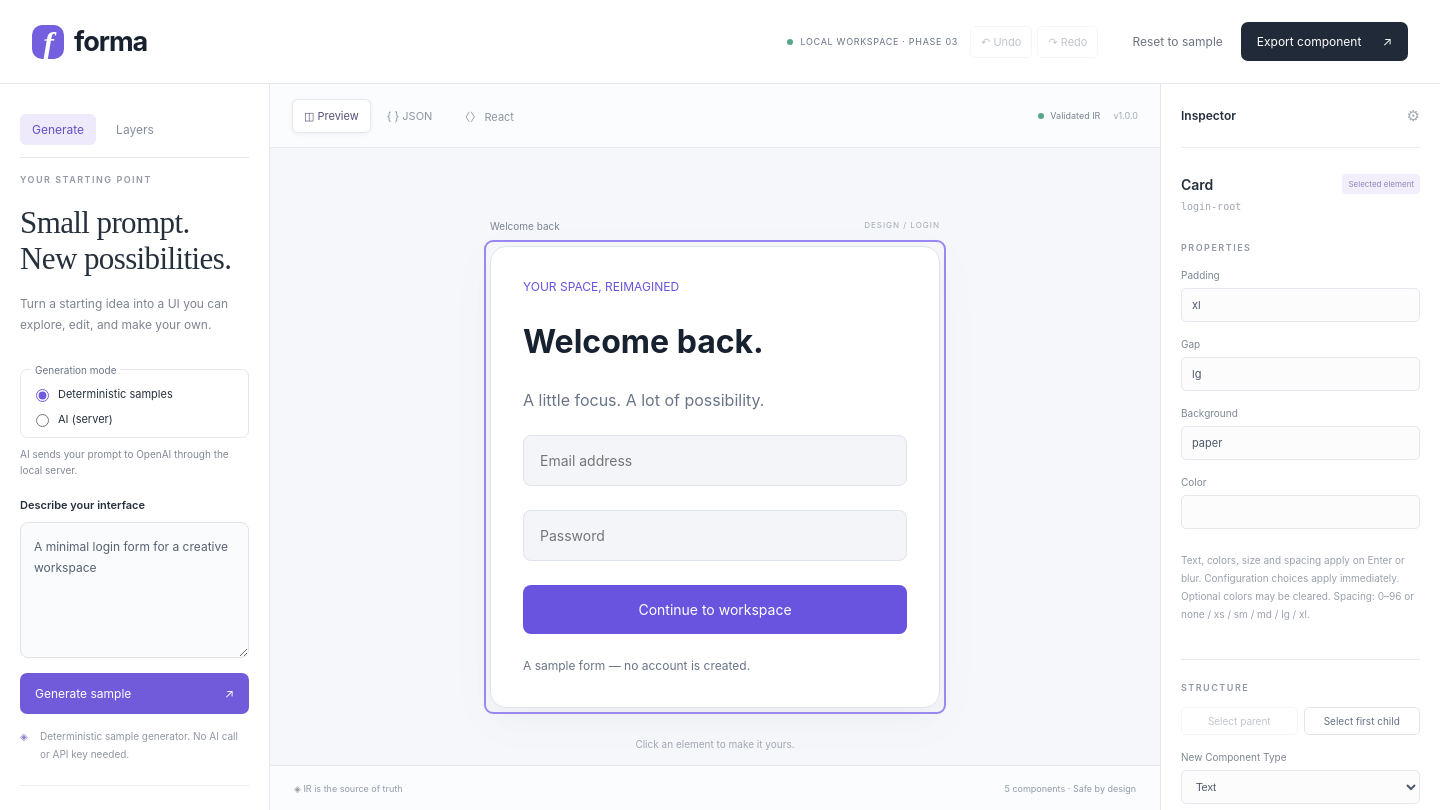
Test case: AI client integration › accepts and persists a valid server design through the existing state path
The image size is (1440, 810).
Check: the text "AI sends your prompt to OpenAI through the local server." is shown, box [20,446,249,478]
Click the radio button labelled "AI (server)": (42, 420) [36,414,49,427]
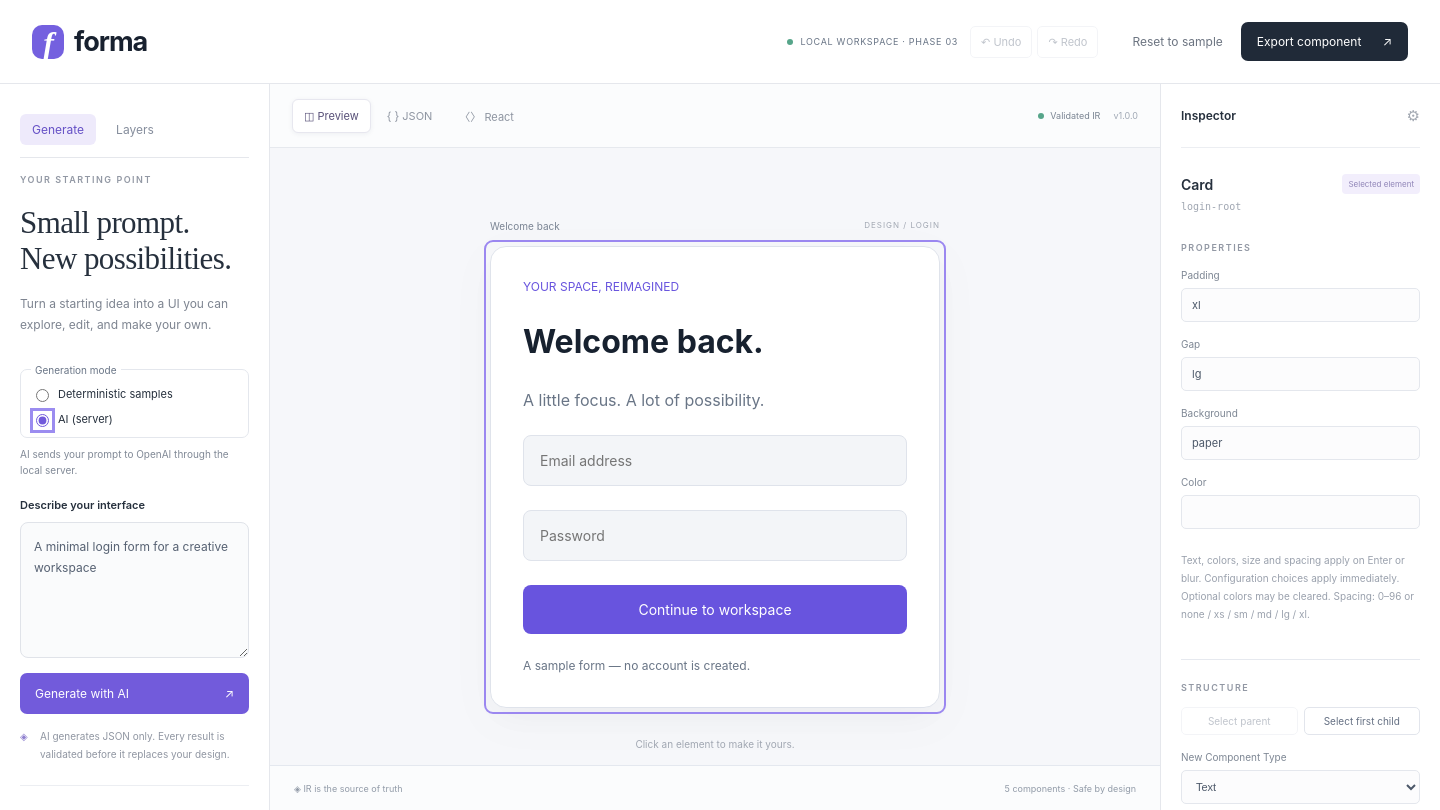
Click the button "Generate with AI ↗": (134, 693) [20,673,249,714]
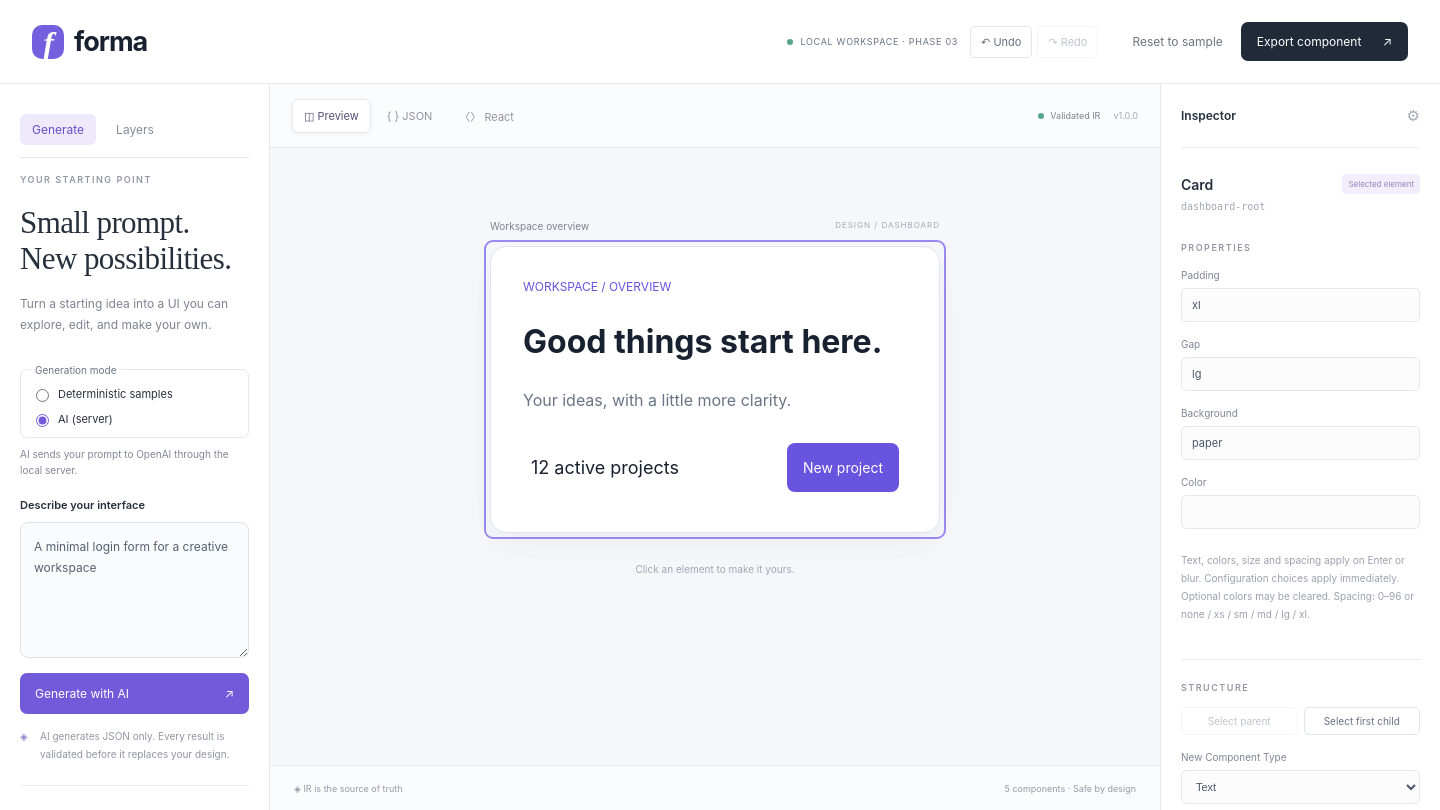
Check: the text "Good things start here." is shown, box [523,320,907,365]
